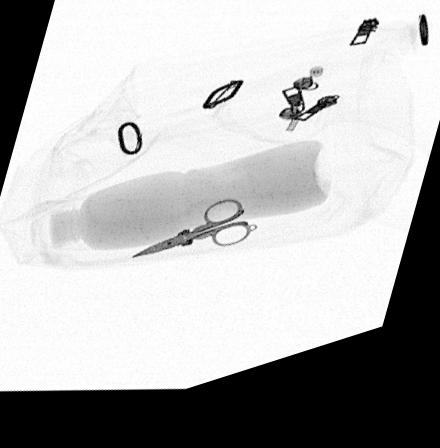Scissors: (125, 211, 252, 266)
